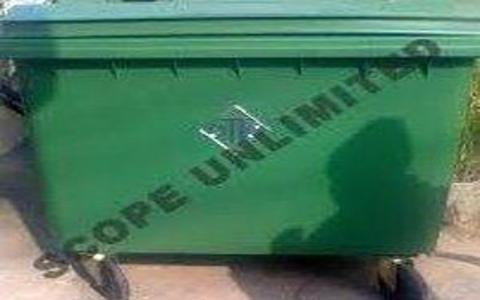Proper garbage: (2, 1, 473, 292)
